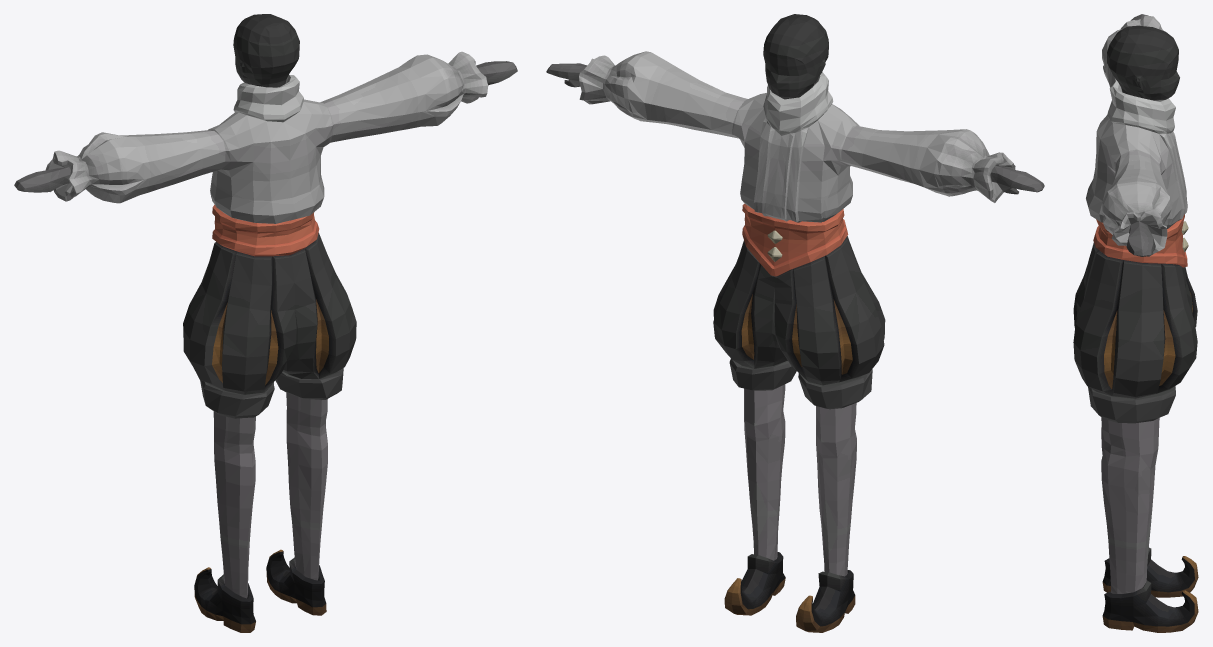
File: NPC_AP30WaistCoat.glb
3 renders of one model, left to right at view 1: azimuth 30°, elevation 25°; view 2: azimuth 150°, elevation 25°; view 3: azimuth 270°, elevation 25°, orthographic. The views are drawn at different scales.
Visible parts, largest first — view 1: NPC_AP30WaistCoat; view 2: NPC_AP30WaistCoat; view 3: NPC_AP30WaistCoat.
Boxes of the visible parts, x1,y1,x2,y2 form: NPC_AP30WaistCoat: (14,14,517,632); NPC_AP30WaistCoat: (546,14,1044,632); NPC_AP30WaistCoat: (1073,14,1198,632).
Bounding box in the file's own units: 13.15 × 14.93 × 2.92.
1 material, 1 textured.
